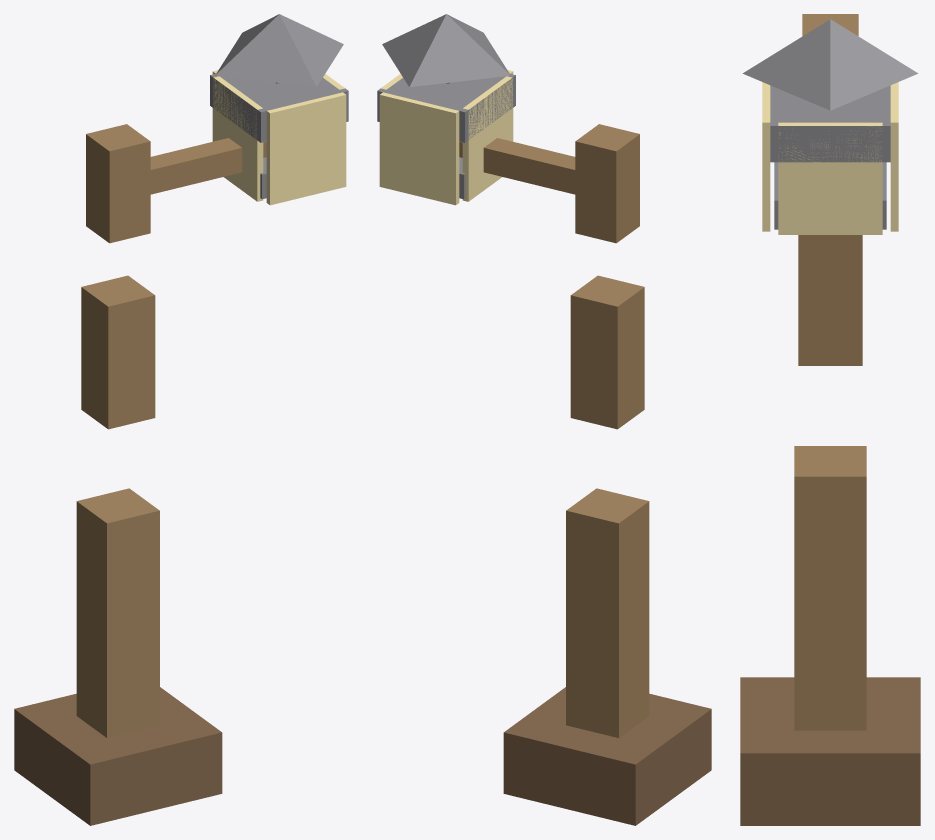
Rendered from lantern_post.glb.
The picture shows the model from 3 angles, left to right: view 1: azimuth 30°, elevation 25°; view 2: azimuth 150°, elevation 25°; view 3: azimuth 270°, elevation 25°; orthographic projection. The views are drawn at different scales.
Parts seen in each view (by area): view 1: post_low, base, post_mid, glass_s, post_high, lantern_roof, lantern_top, arm, glass_w; view 2: post_low, base, post_mid, glass_n, post_high, lantern_roof, lantern_top, glass_w, arm; view 3: base, post_low, post_mid, glass_e, lantern_roof, lantern_top, glass_n, glass_s, post_high, lantern_base.
Boxes of the visible parts, x1=… form: post_low: x1=76, y1=488, x2=159, y2=737; base: x1=14, y1=687, x2=222, y2=825; post_mid: x1=81, y1=275, x2=155, y2=429; glass_s: x1=266, y1=92, x2=346, y2=205; post_high: x1=86, y1=124, x2=150, y2=243; lantern_roof: x1=215, y1=14, x2=343, y2=87; lantern_top: x1=210, y1=74, x2=348, y2=142; arm: x1=150, y1=138, x2=266, y2=194; glass_w: x1=213, y1=76, x2=263, y2=201; post_low: x1=566, y1=488, x2=649, y2=737; base: x1=503, y1=687, x2=711, y2=825; post_mid: x1=570, y1=275, x2=644, y2=429; glass_n: x1=379, y1=92, x2=459, y2=205; post_high: x1=575, y1=124, x2=639, y2=243; lantern_roof: x1=382, y1=14, x2=510, y2=87; lantern_top: x1=377, y1=74, x2=515, y2=142; glass_w: x1=462, y1=76, x2=512, y2=201; arm: x1=459, y1=138, x2=575, y2=194; base: x1=740, y1=677, x2=920, y2=825; post_low: x1=794, y1=446, x2=866, y2=730; post_mid: x1=798, y1=235, x2=862, y2=365; glass_e: x1=778, y1=122, x2=882, y2=234; lantern_roof: x1=742, y1=19, x2=918, y2=110; lantern_top: x1=770, y1=85, x2=890, y2=162; glass_n: x1=890, y1=82, x2=898, y2=231; glass_s: x1=762, y1=82, x2=770, y2=231; post_high: x1=802, y1=14, x2=858, y2=36; lantern_base: x1=774, y1=162, x2=886, y2=229.
Size of the model in its own units: 0.995 by 2.37 by 0.45.
